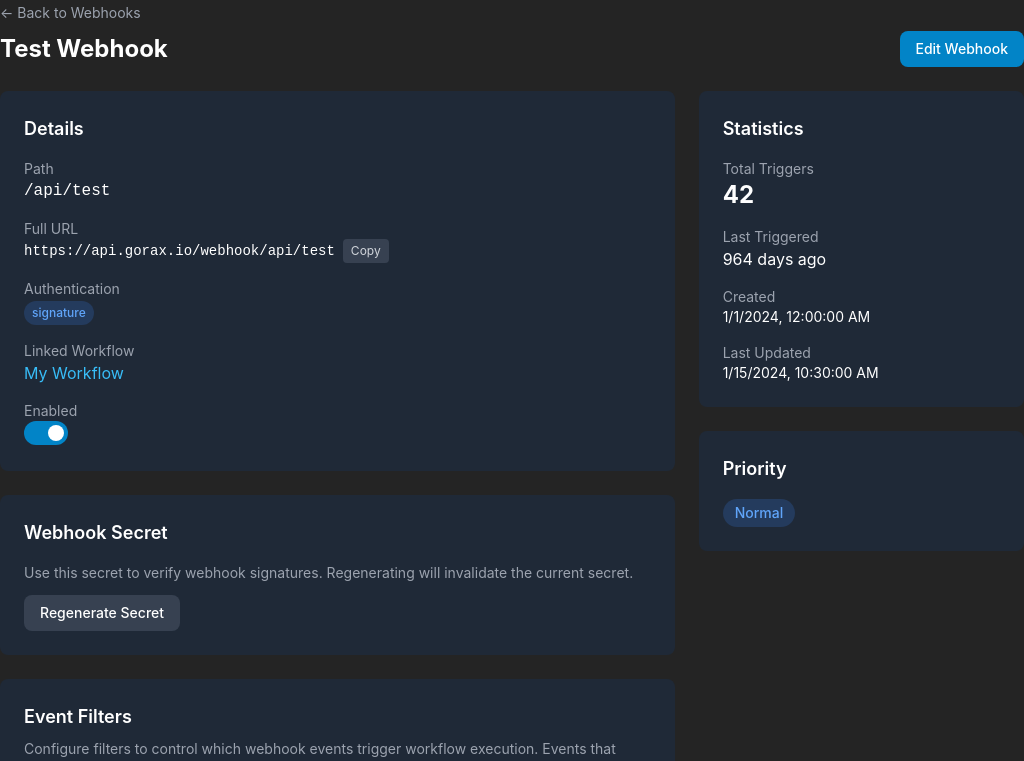
Test: WebhookDetail › Secret Management › should show confirmation before regenerating
Click the button "Regenerate Secret". click: (102, 613)
box: 24,595 -> 180,631
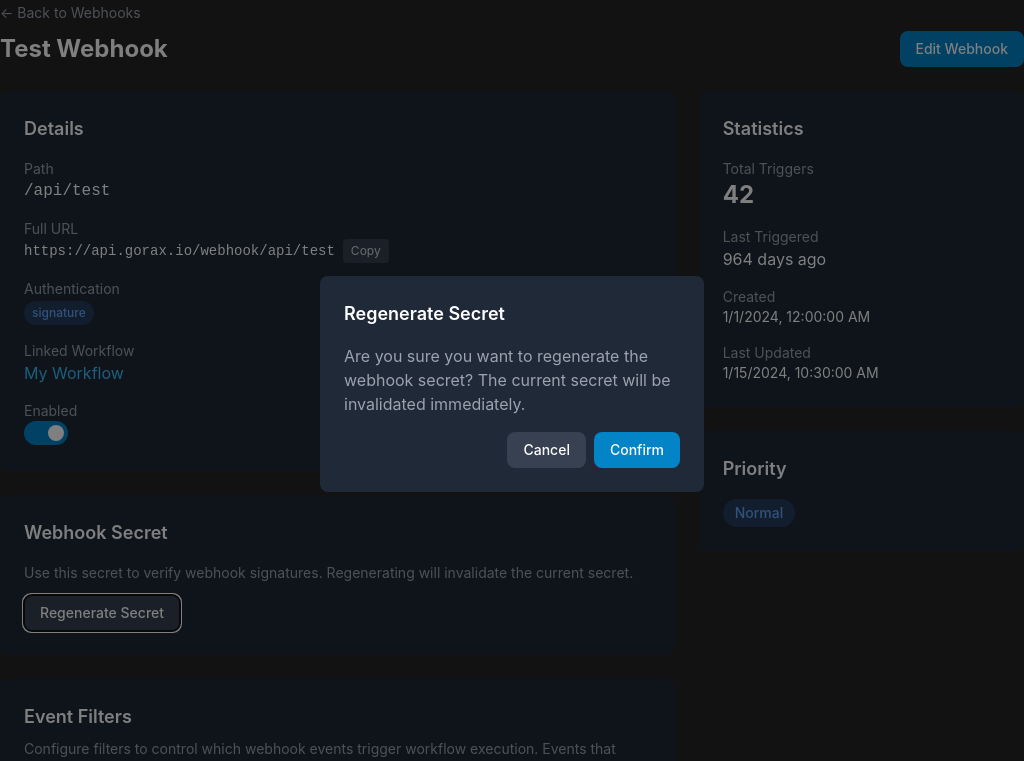
Now the text "Are you sure" is shown, box 344,346 -> 671,414
